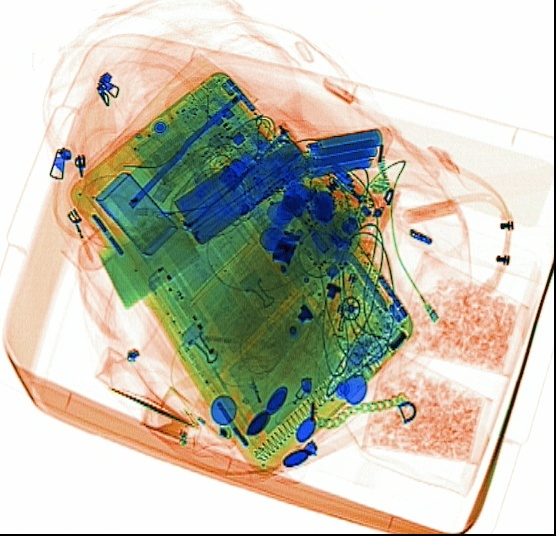powerbank: (173, 123, 325, 252), (297, 128, 387, 176)
